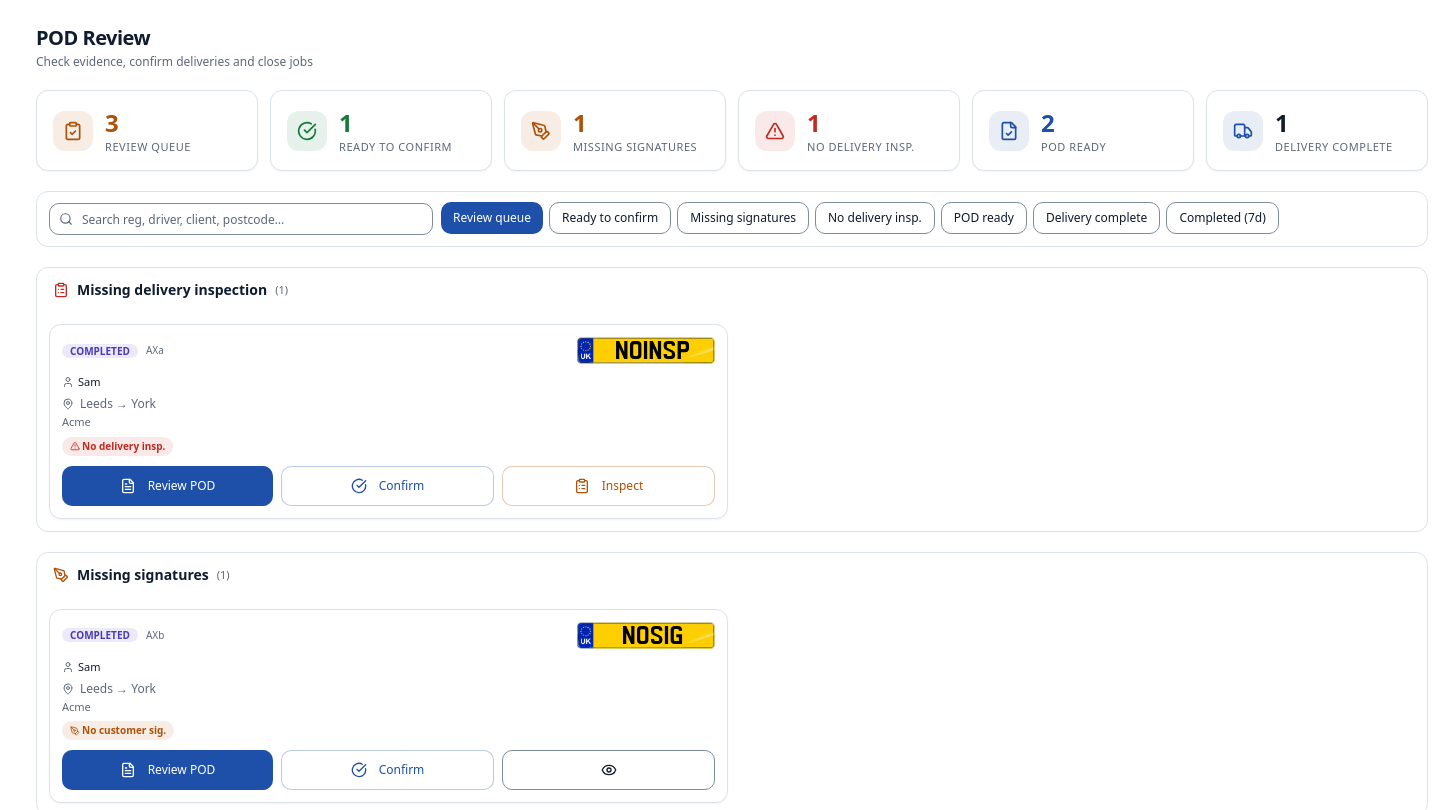
POD review screen › KPI tiles switch the view
Click the button with aria-label "missing signatures:" at (615, 131), box [504,90,726,171]
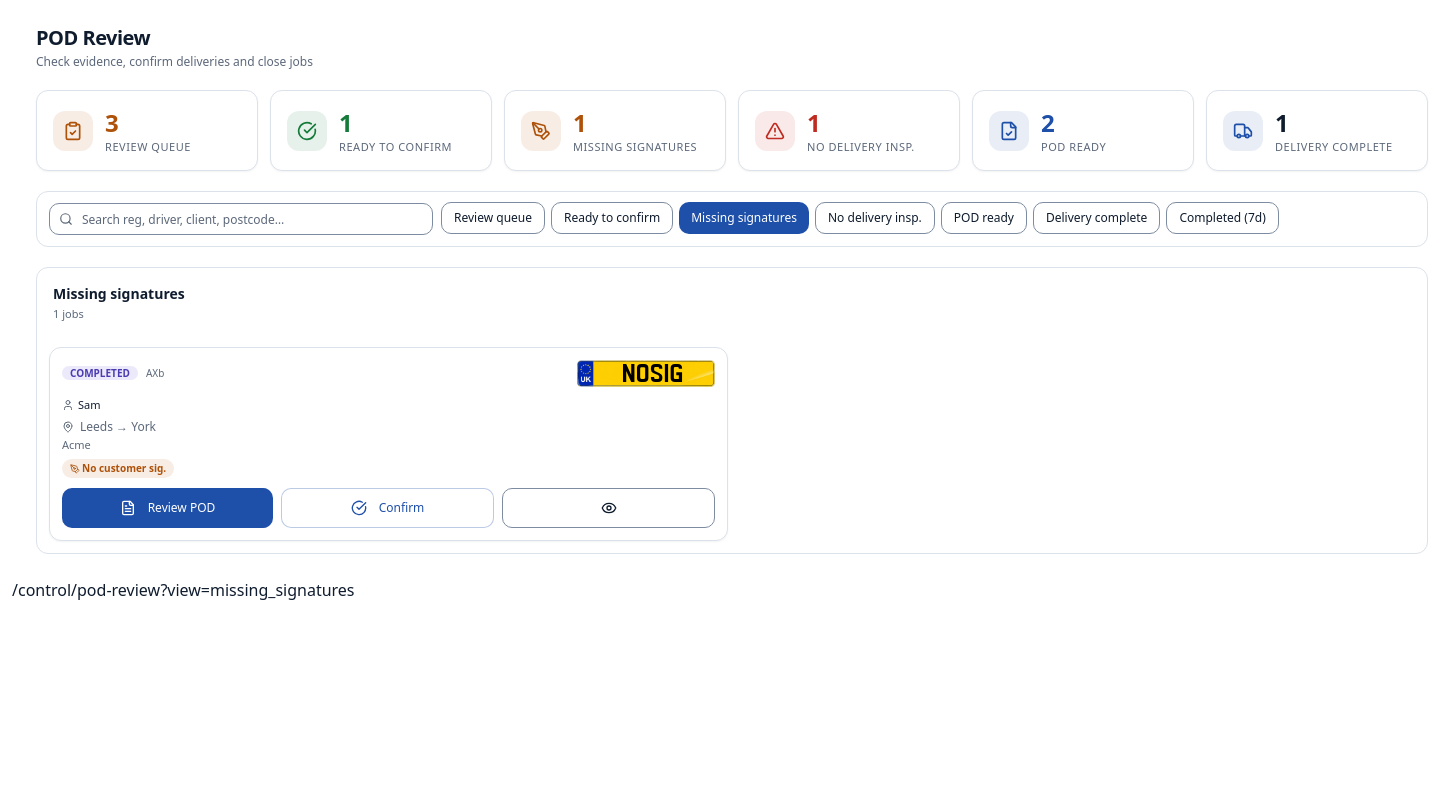
Expected: the text with test id "loc" reads "/control/pod-review?view=missing_signatures", [12,579,354,601]
